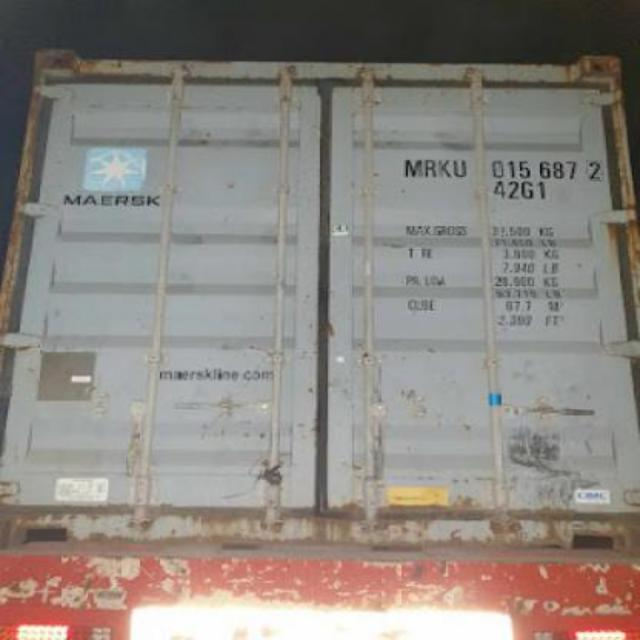0: (488, 156, 504, 177)
1: (504, 154, 518, 180)
2: (586, 156, 606, 182)
5: (518, 153, 534, 180)
6: (536, 152, 550, 178)
7: (564, 156, 580, 182)
8: (550, 155, 564, 181)
K: (438, 153, 452, 183)
M: (400, 153, 424, 183)
R: (422, 152, 438, 182)
U: (450, 152, 468, 182)
